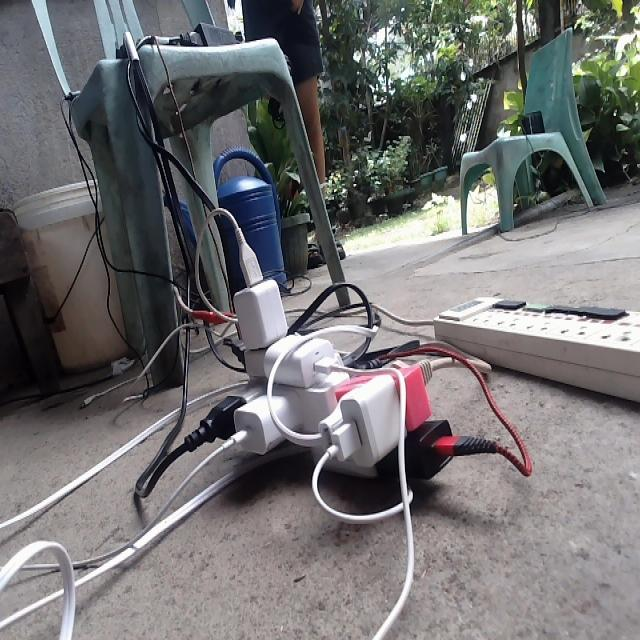-: (182, 237, 500, 487)
